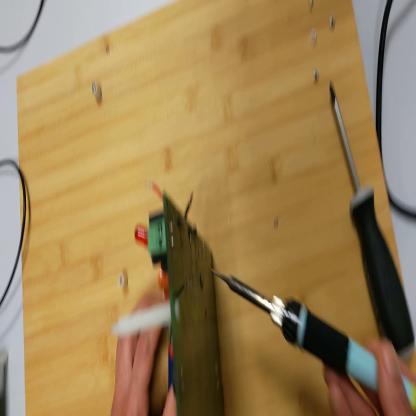hand: (323, 333, 413, 415), (111, 314, 179, 414)
low voltage board: (112, 171, 227, 416)
screwdriver-: (332, 78, 416, 364)
welder probe tip: (208, 265, 416, 406)
working area: (14, 2, 416, 415)
